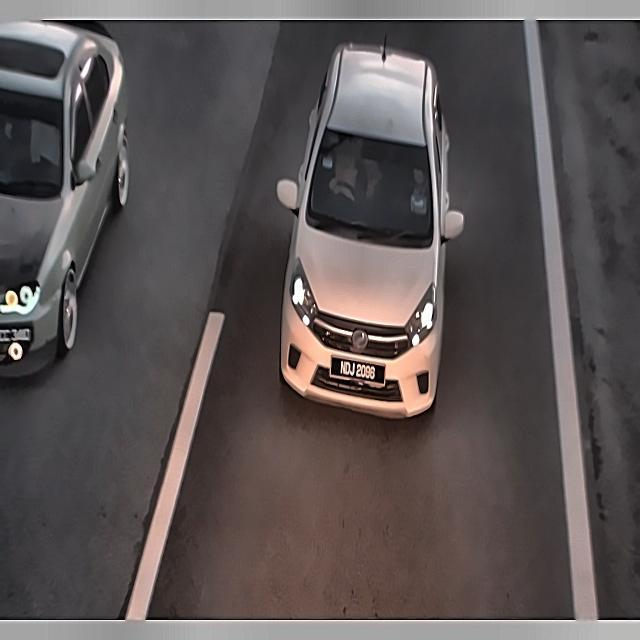car: (328, 352, 390, 388)
